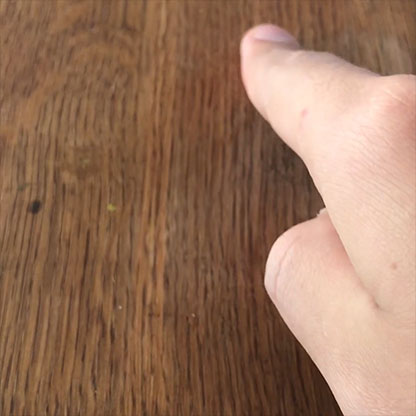fingertip: (229, 12, 304, 64)
